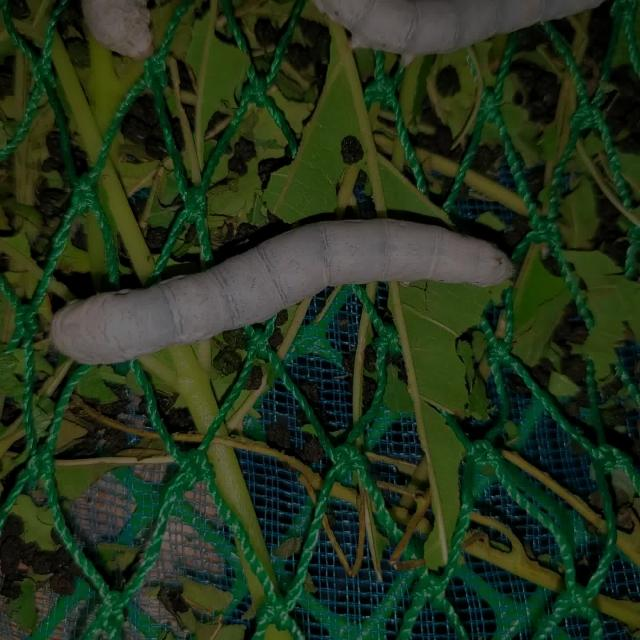Healthy: (24, 193, 564, 382)
